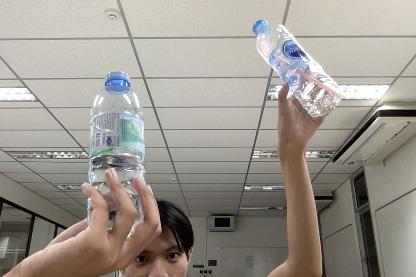Plastic Bottle: (87, 65, 149, 236), (251, 15, 345, 120)
